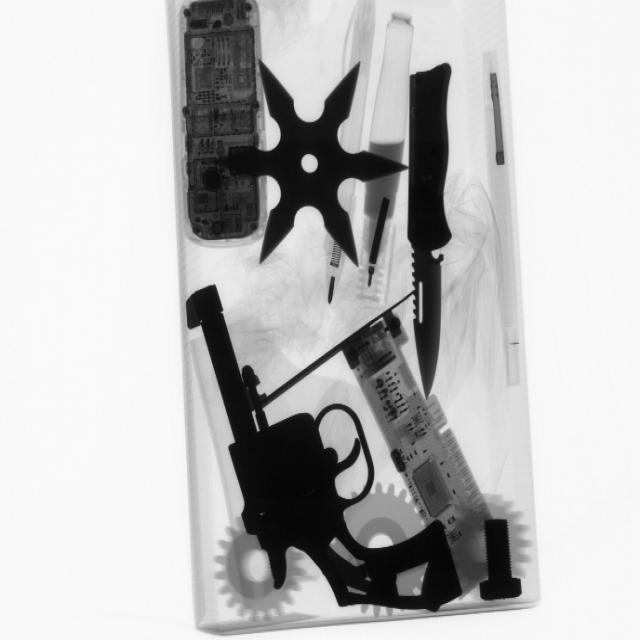GUN: (184, 284, 472, 623)
KNIFE: (398, 59, 469, 386)
SHURIKEN: (224, 53, 397, 271)
